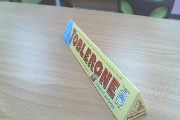Chocolate: (49, 16, 160, 120)
